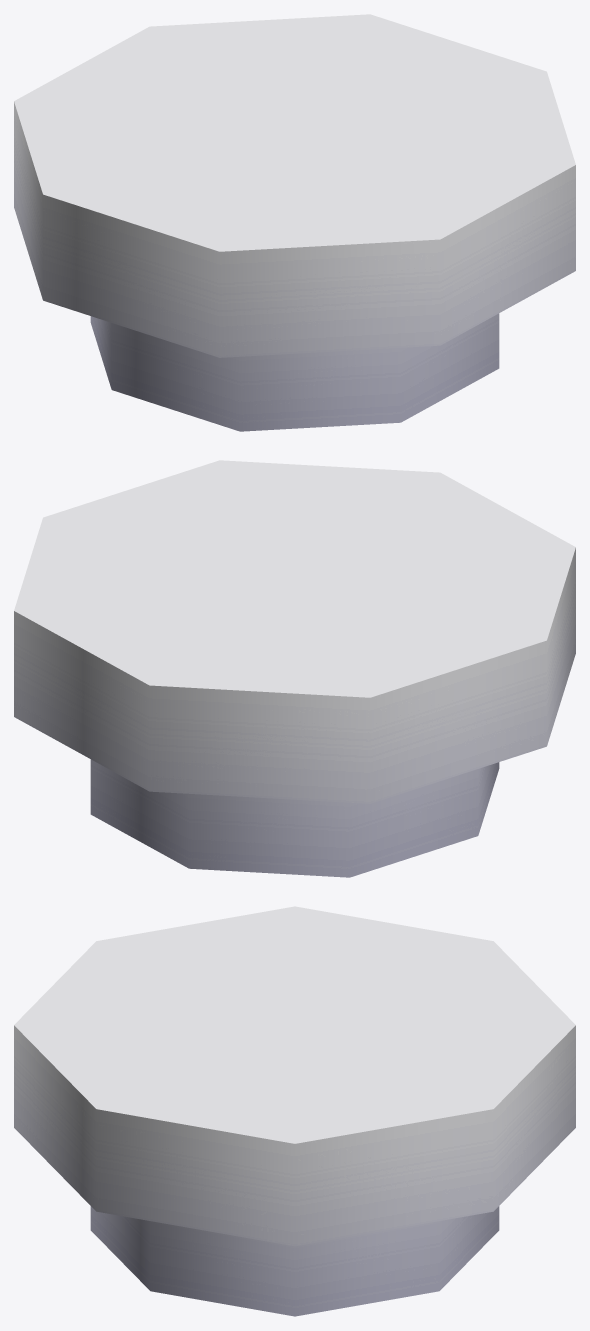
The model's file is none_lq_plate_1x1_round.glb.
3 views of the same model, one above another, from view 1: azimuth 30°, elevation 25°; view 2: azimuth 150°, elevation 25°; view 3: azimuth 270°, elevation 25° (orthographic). The views are drawn at different scales.
Visible parts, largest first — view 1: none-lq-plate-1x1-round; view 2: none-lq-plate-1x1-round; view 3: none-lq-plate-1x1-round.
Boxes of the visible parts, x1,y1,x2,y2 form: none-lq-plate-1x1-round: [14, 14, 575, 431]; none-lq-plate-1x1-round: [14, 460, 575, 877]; none-lq-plate-1x1-round: [14, 906, 575, 1316].
Size of the model in its own units: 0.0795 by 0.032 by 0.0795.
1 material, 1 textured.
